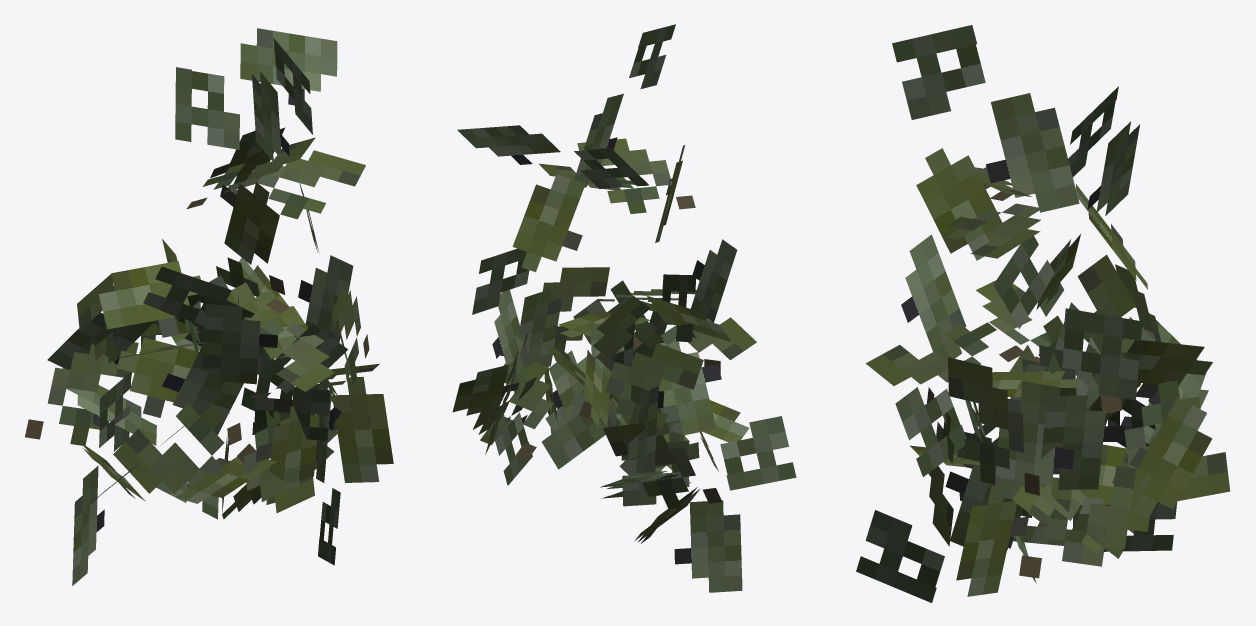
The model's file is SM_Plant_A.obj.
The picture shows the model from 3 angles, left to right: view 1: azimuth 30°, elevation 25°; view 2: azimuth 150°, elevation 25°; view 3: azimuth 270°, elevation 25°; orthographic projection. The views are drawn at different scales.
Parts seen in each view (by area): view 1: Cube.004; view 2: Cube.004; view 3: Cube.004.
Part boxes in pixels (x1,y1,x2,y2): Cube.004: (25,28,393,585); Cube.004: (452,24,796,592); Cube.004: (856,25,1230,602).
Size of the model in its own units: 2.2 by 3.44 by 1.98.
